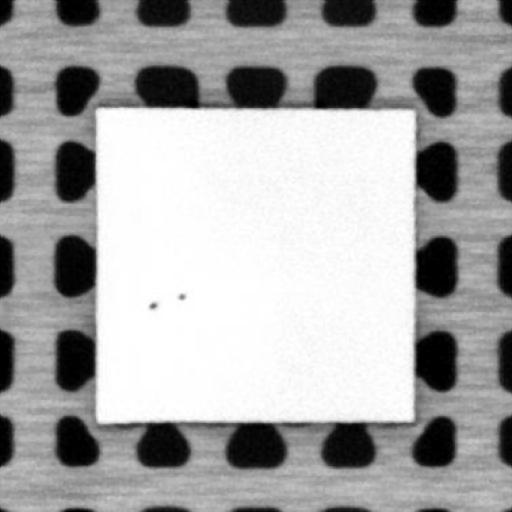DIE_INK: (145, 298, 158, 310), (174, 289, 186, 301)
